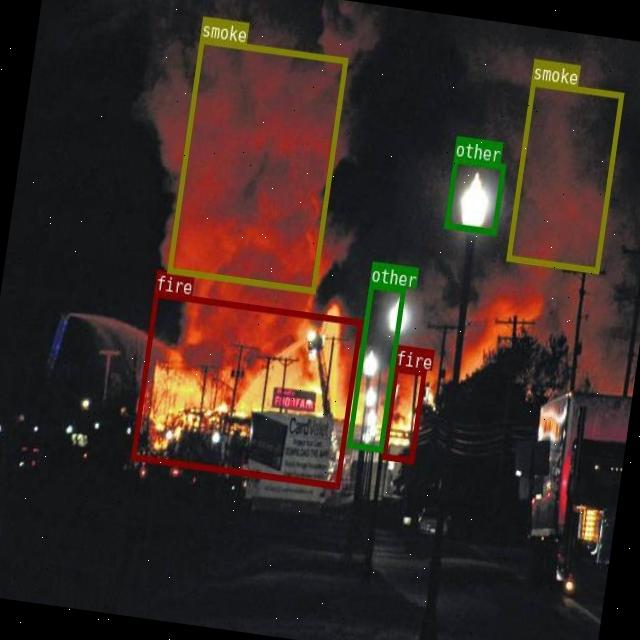fire: (130, 290, 362, 488), (382, 364, 426, 462)
smoke: (166, 38, 346, 292), (506, 79, 624, 272)
